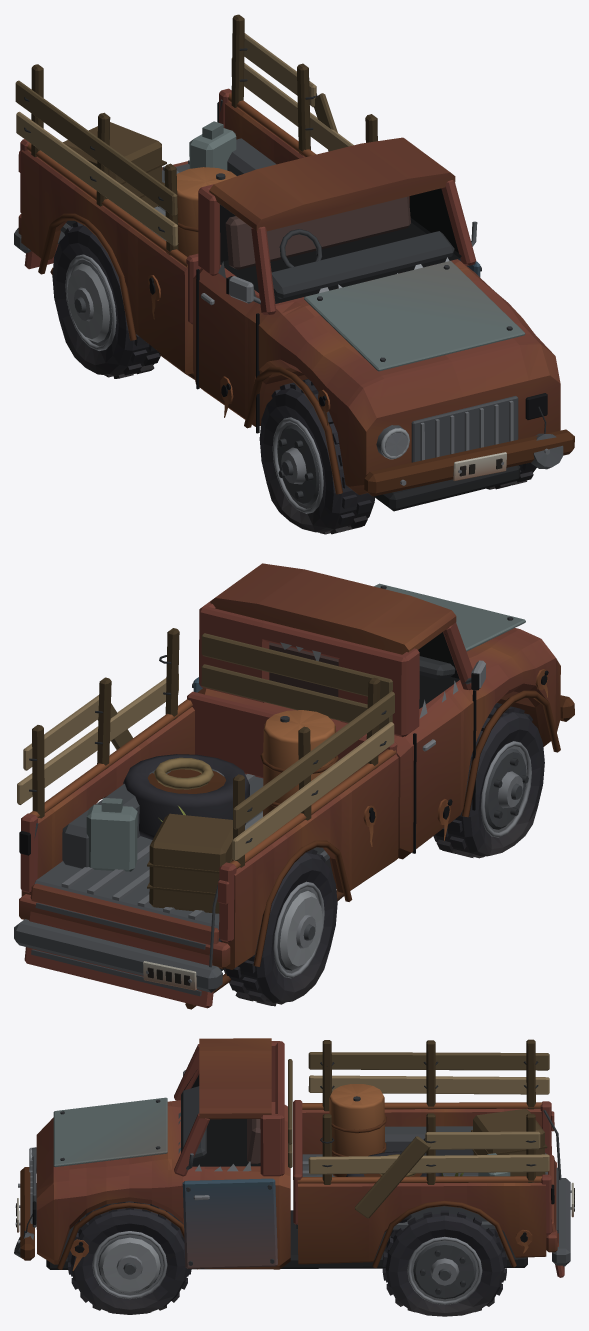
File: rusted_pickup.glb
3 renders of one model, top to bottom at view 1: azimuth 30°, elevation 25°; view 2: azimuth 150°, elevation 25°; view 3: azimuth 270°, elevation 25°, orthographic. The views are drawn at different scales.
Visible parts, largest first — view 1: rusted_pickup; view 2: rusted_pickup; view 3: rusted_pickup.
Part boxes in pixels (box(x1,y1,x2,y2)): rusted_pickup: box(14, 14, 574, 534); rusted_pickup: box(14, 563, 574, 1009); rusted_pickup: box(14, 1038, 574, 1316).
Size of the model in its own units: 1.17 by 1.24 by 3.05.
